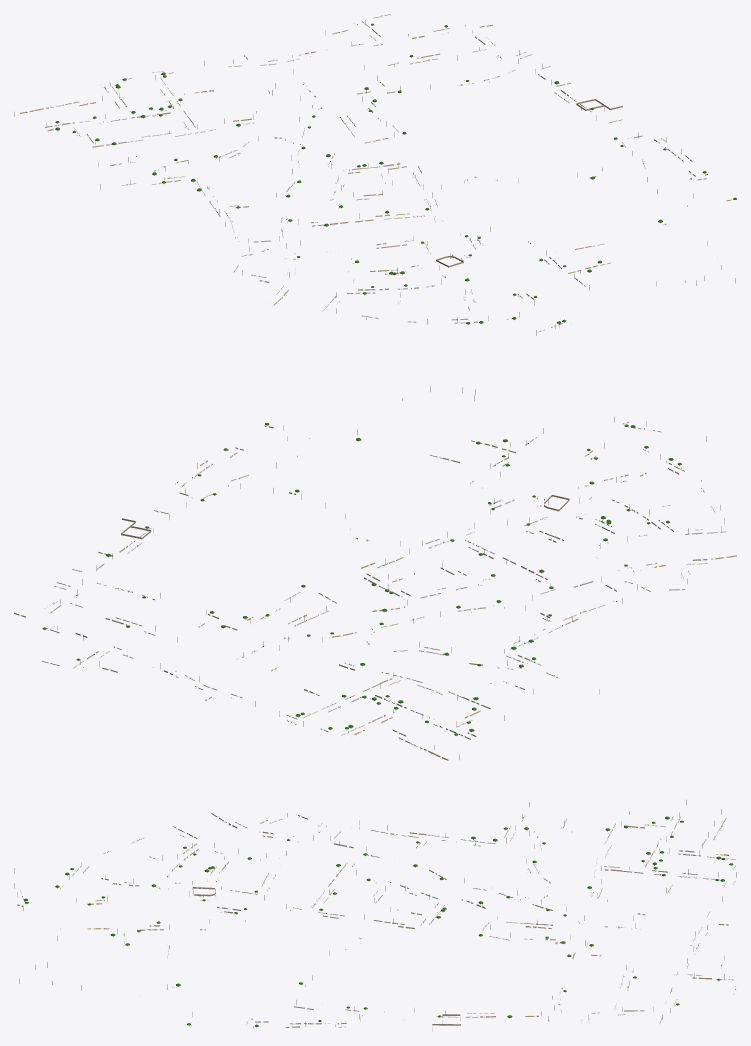
File: nd_stm_m8_m6.glb
The picture shows the model from 3 angles, top to bottom: view 1: azimuth 30°, elevation 25°; view 2: azimuth 150°, elevation 25°; view 3: azimuth 270°, elevation 25°; orthographic projection. The views are drawn at different scales.
Visible parts, largest first — view 1: nd_stm_m8_m6_lod0; view 2: nd_stm_m8_m6_lod0; view 3: nd_stm_m8_m6_lod0.
Part boxes in pixels (left/top/right/bottom): nd_stm_m8_m6_lod0: left=14, top=14, right=736, bottom=335; nd_stm_m8_m6_lod0: left=14, top=386, right=736, bottom=760; nd_stm_m8_m6_lod0: left=14, top=800, right=736, bottom=1031.
Size of what is drawn, in the model's own units: 783 by 19.15 by 998.
